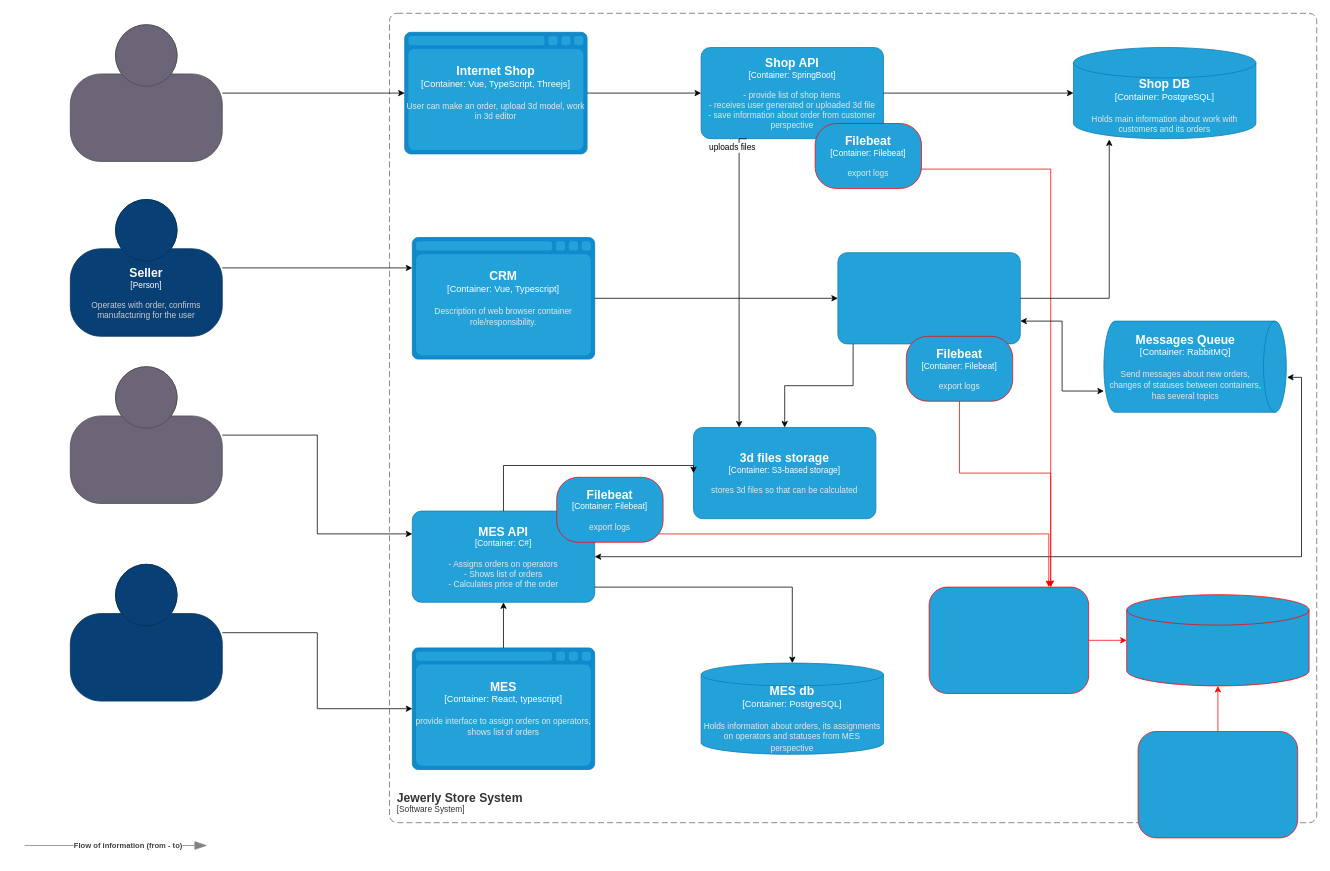
Some shapes in this 1330 by 871 pixel diagram are drawn without their labels. The shapes that lost their labels are listed below. From the top down, each one's centre as x and y in pixels, then its label:
At (146,93): "Customer [Person] Description of external person.".
At (928,298): "CRM API [Container: SpringBoot] Description of container role/responsibility.".
At (146,435): "API user [Person] Description of external person.".
At (146,632): "Operator [Person] Takes order in work, manufactures jewerly".
At (1008,640): "Logstash [Container: Logstash] convert logs".
At (1217,640): "Elasticsearch [Container: Elasticsearch] Store logs".
At (1217,784): "Kibana [Container: Kibana]".
